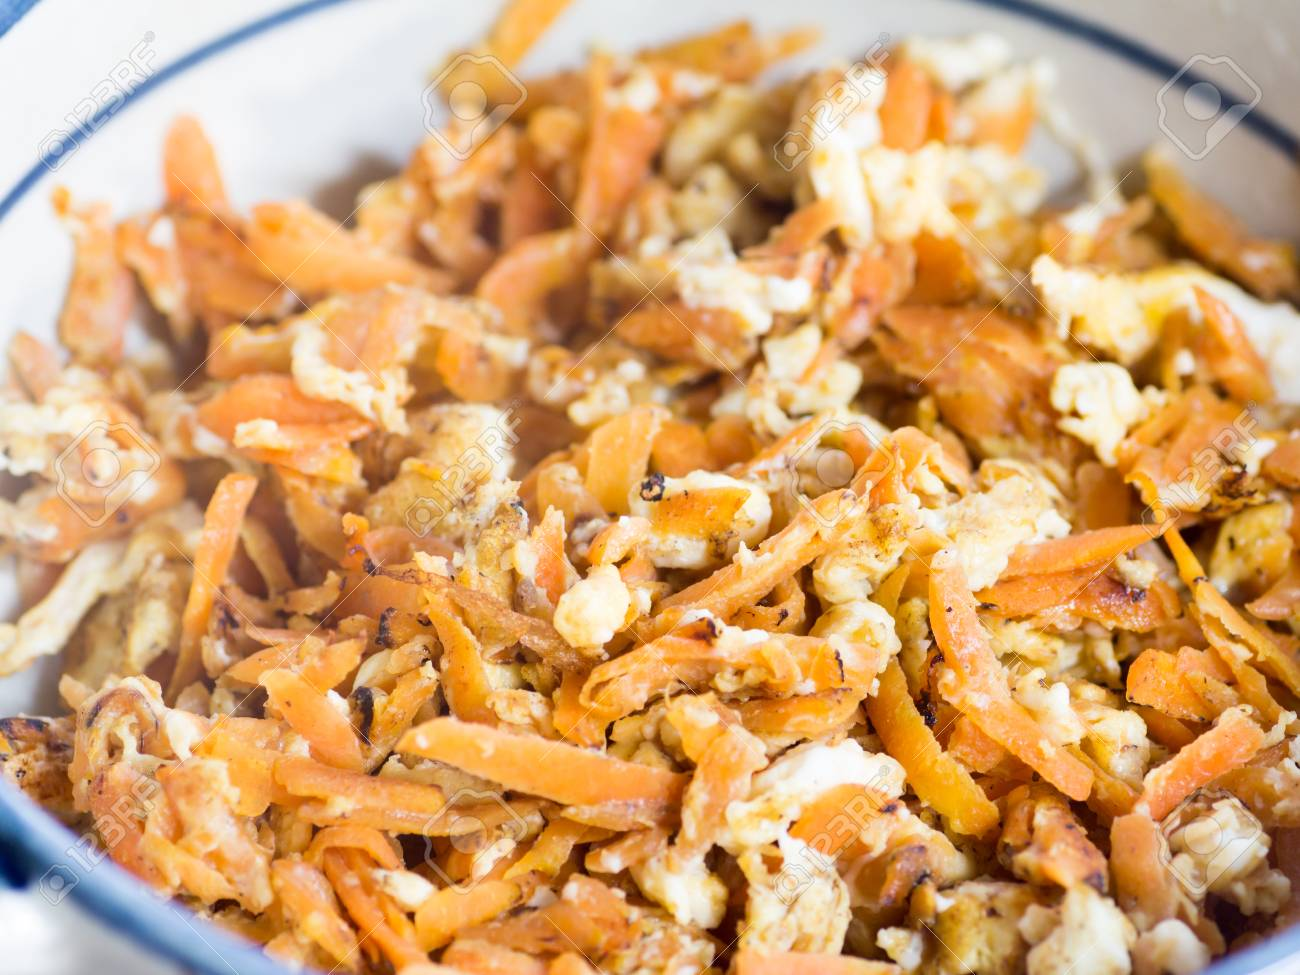carrot_eggs: (102, 30, 1273, 975), (487, 239, 936, 866), (805, 386, 1286, 896), (101, 120, 747, 481), (198, 423, 688, 864), (657, 116, 1207, 468)
